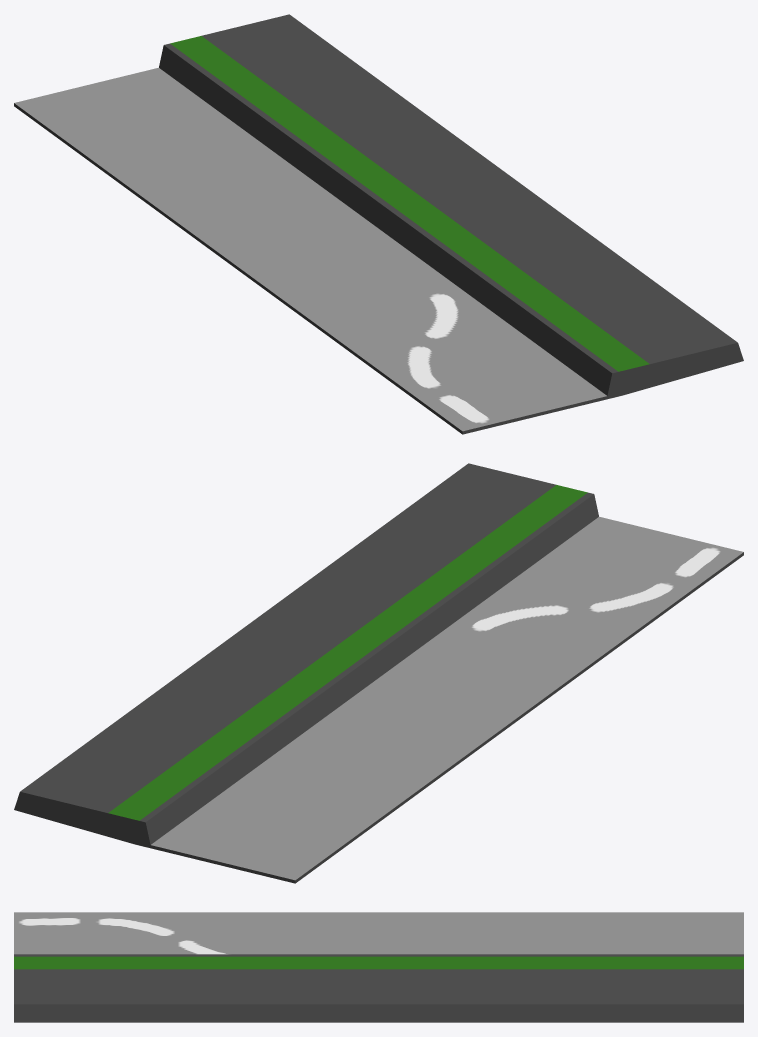
Rendered from RoadOutOfBus.glb.
3 views of the same model, one above another, from view 1: azimuth 30°, elevation 25°; view 2: azimuth 150°, elevation 25°; view 3: azimuth 270°, elevation 25° (orthographic). The views are drawn at different scales.
Visible parts, largest first — view 1: Cube; view 2: Cube; view 3: Cube.
Boxes of the visible parts, x1,y1,x2,y2 form: Cube: (14,14,743,434); Cube: (14,463,743,883); Cube: (14,912,743,1022).
Size of the model in its own units: 18.04 by 1.51 by 49.81.
3 materials, 1 textured.
